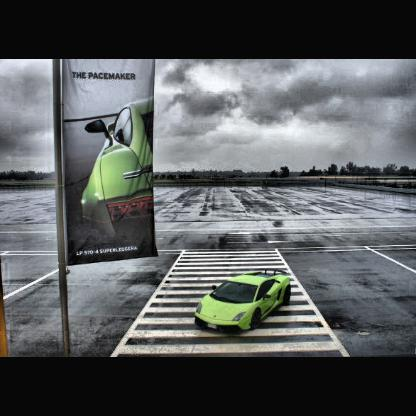Lamborghini Gallardo LP 570-4 Superleggera 2012: (84, 97, 154, 222)
